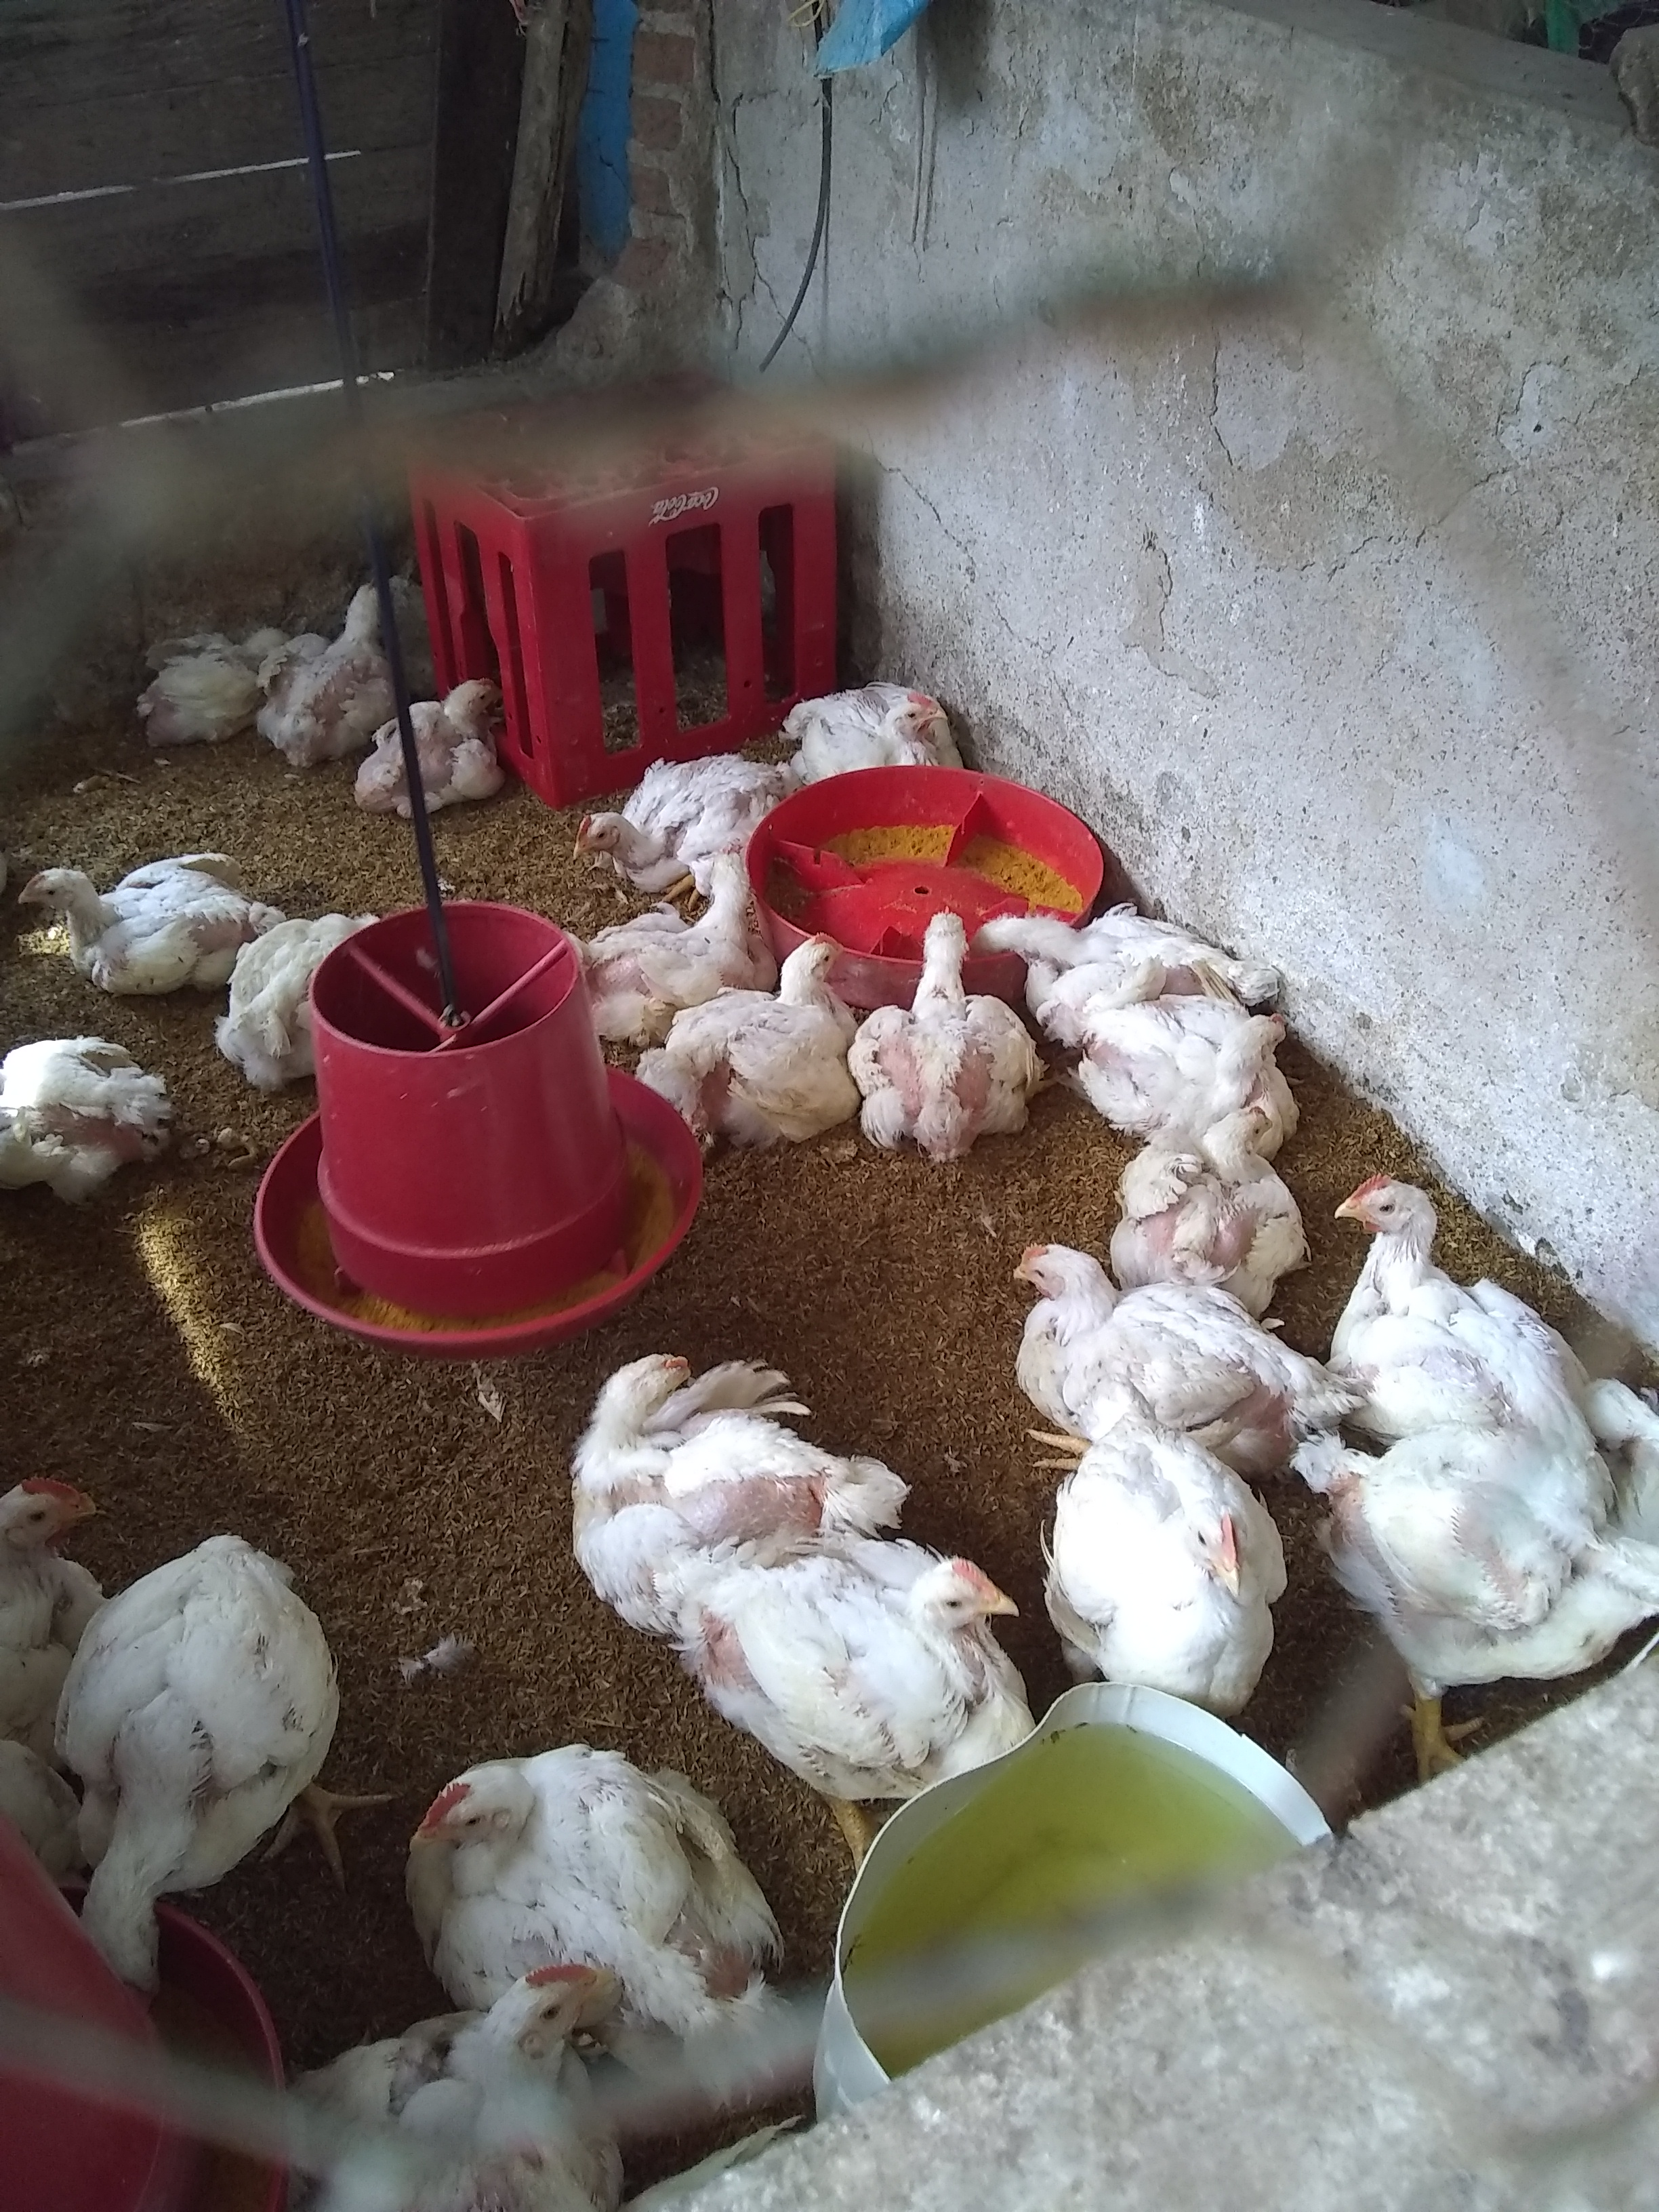Pollos: (64, 1524, 362, 1977), (1300, 1426, 1659, 1742), (291, 1916, 627, 2212), (669, 1543, 1037, 1806), (1023, 1392, 1344, 1693), (408, 1743, 772, 1963), (570, 1325, 885, 1559), (1319, 1125, 1596, 1378), (1009, 1207, 1286, 1402), (626, 927, 875, 1143), (852, 899, 1042, 1169), (971, 871, 1270, 1024), (225, 894, 441, 1090), (12, 831, 254, 1001), (0, 1451, 127, 1764), (1114, 1104, 1307, 1308), (0, 1024, 192, 1228), (575, 843, 781, 1017), (1066, 991, 1286, 1150), (261, 559, 432, 759), (347, 664, 530, 820), (565, 744, 772, 876), (125, 589, 265, 782), (782, 669, 974, 798)
